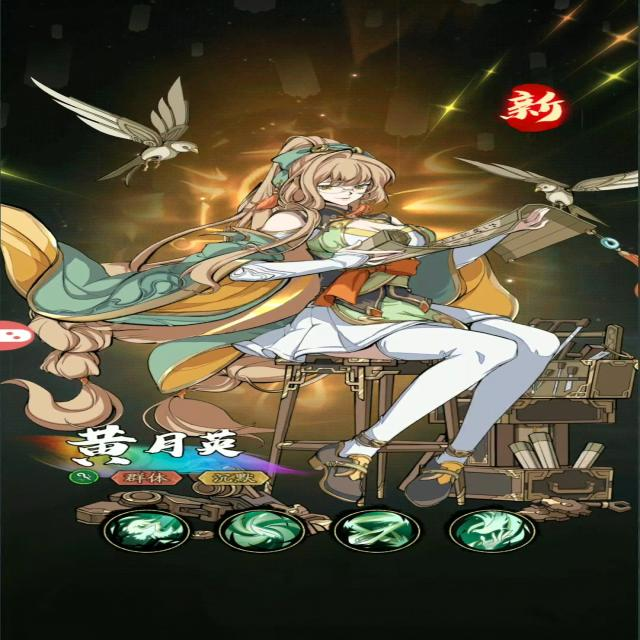skill-multi1-on: (447, 502, 549, 561)
skill-multi2-on: (322, 505, 431, 559)
skill-multi3-on: (209, 504, 326, 560)
skill-multi4-on: (91, 506, 191, 559)
